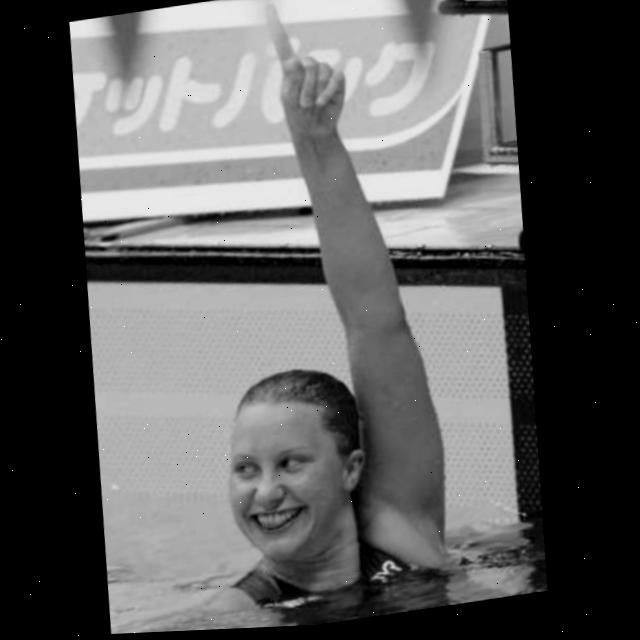face: (209, 383, 365, 576)
